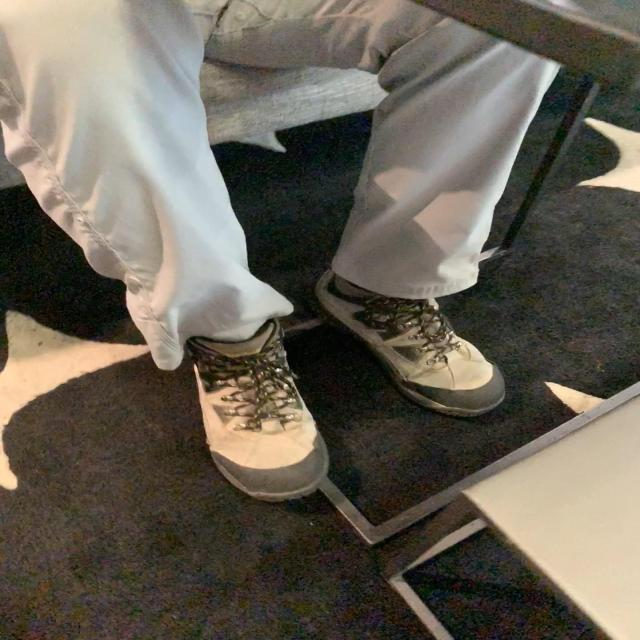shoe: (159, 305, 332, 498), (308, 256, 505, 419)
